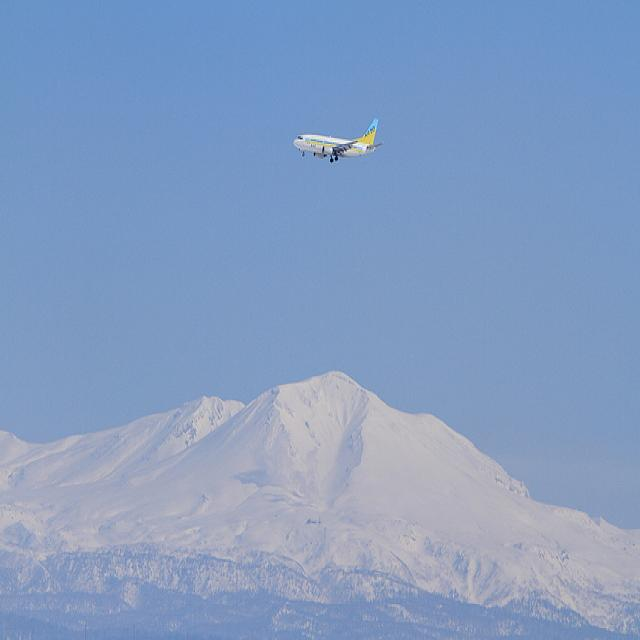airplane: (291, 115, 385, 164)
